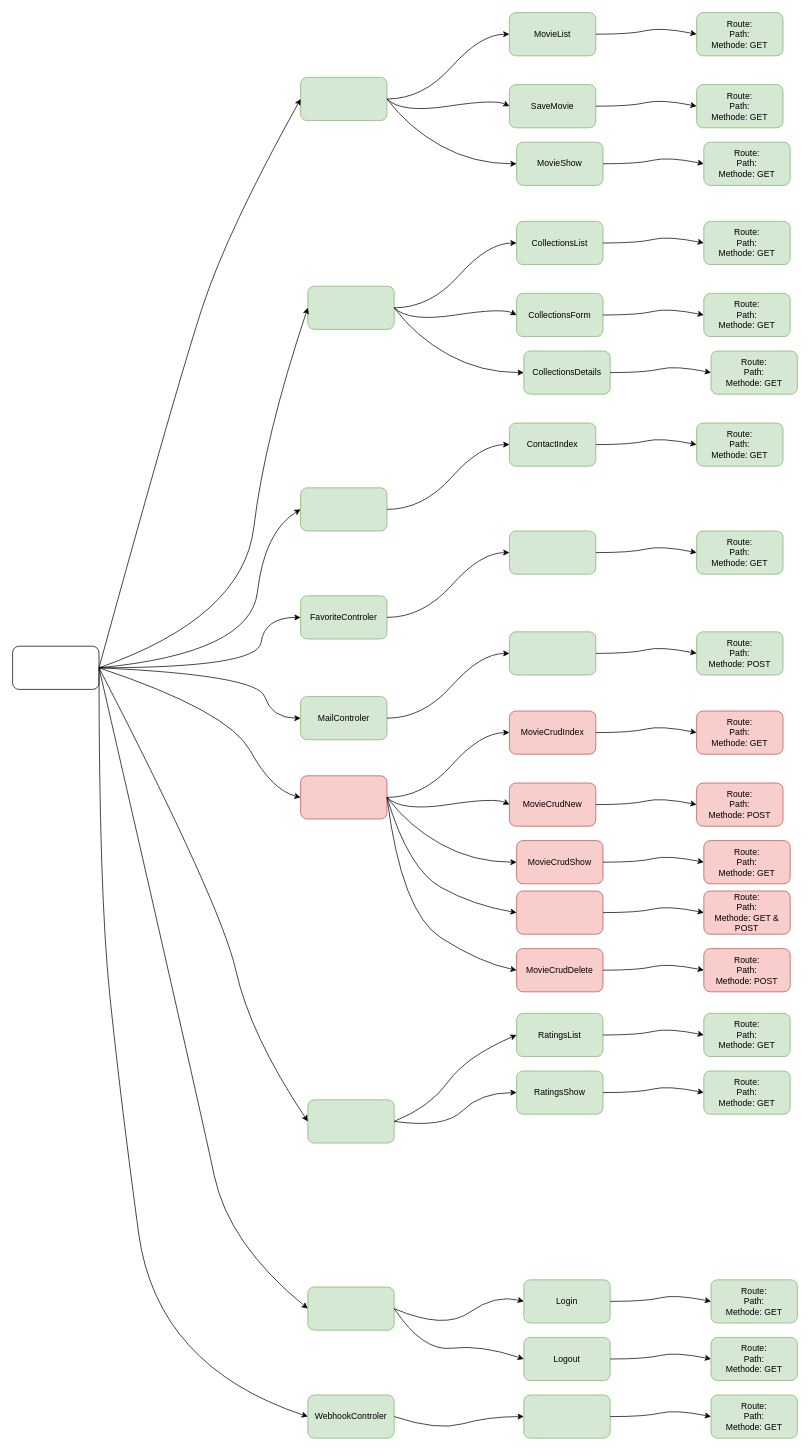
The diagram is 810 pixels wide and 1451 high, and some of its shapes have lost their labels. The shapes that lost their labels are listed below. From the top down, each one's centre as x and y in pixels, then its label:
the point at 343,99: MovieController
the point at 350,307: CollectionController
the point at 343,509: ContactControler
the point at 552,552: FavoriteList
the point at 55,667: HomeController
the point at 552,653: ShareMail
the point at 343,797: MovieCrudControler
the point at 559,912: MovieCrudEdit
the point at 350,1121: RatingsControler
the point at 350,1308: SecurityControler
the point at 566,1416: ShareDiscord
